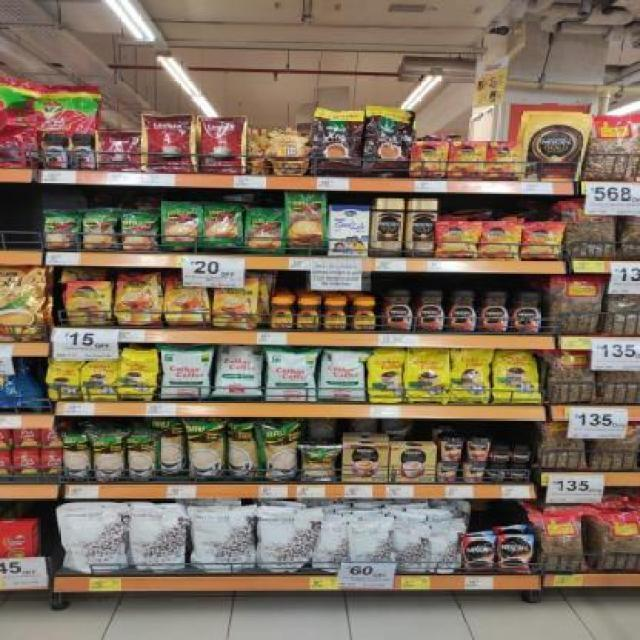Coffee: (115, 274, 161, 327), (164, 275, 208, 326), (212, 278, 256, 329), (67, 281, 112, 325), (372, 199, 405, 258), (408, 199, 438, 258), (520, 222, 561, 259), (381, 290, 414, 332), (497, 535, 532, 574), (479, 291, 510, 334), (439, 221, 476, 257), (479, 222, 518, 256), (417, 290, 447, 332), (512, 292, 542, 334), (448, 290, 477, 333), (463, 536, 494, 572), (267, 297, 296, 330), (70, 134, 96, 170), (350, 298, 378, 331), (42, 133, 68, 168), (294, 298, 322, 330), (321, 298, 348, 330), (491, 445, 511, 464), (511, 446, 531, 463), (510, 464, 530, 481), (488, 465, 508, 482)
